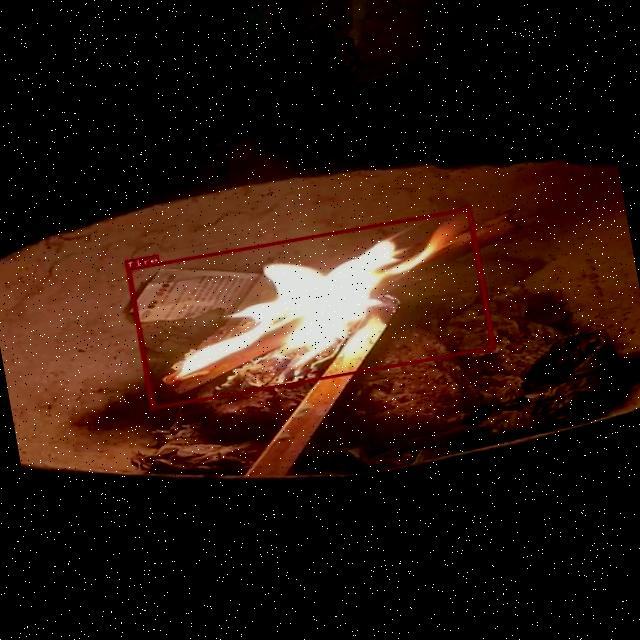fire: (124, 206, 494, 408)
